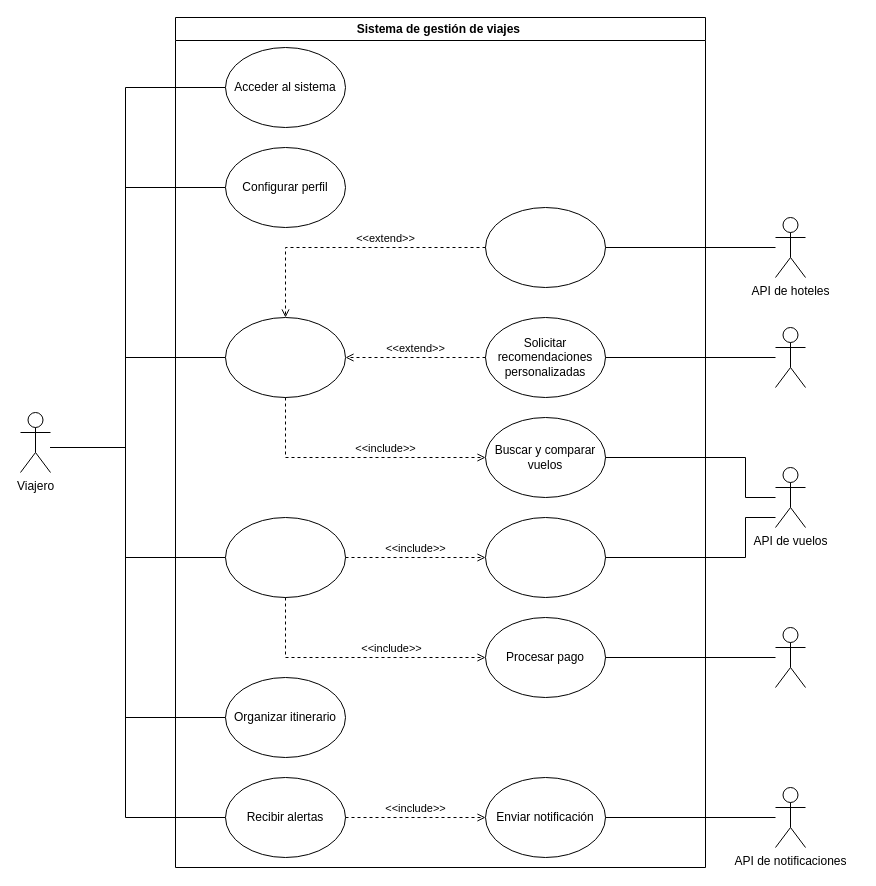
The diagram is 876 pixels wide and 886 high, and some of its shapes have lost their labels. The shapes that lost their labels are listed below. From the top down, each one's centre as x and y in pixels, then its label:
[545,247]: Estimar costo de hospedaje
[285,357]: Planificar viaje
[790,357]: API de recomendaciones basada en IA
[285,557]: Reservar viaje
[545,557]: Verificar disponibilidad y precio
[790,657]: API de pagos
